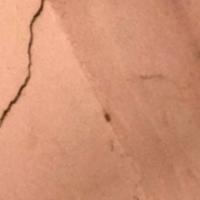crack: (3, 0, 66, 127)
